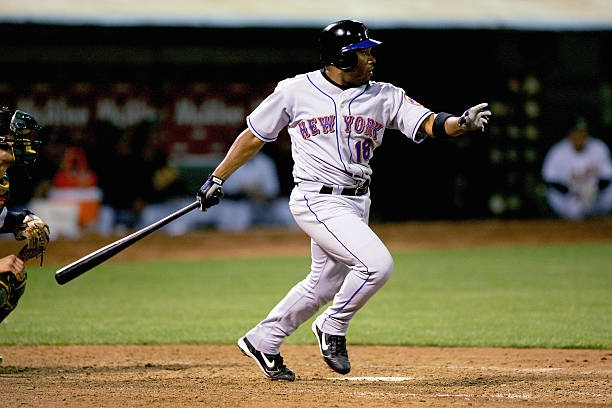bita: (54, 191, 217, 284)
